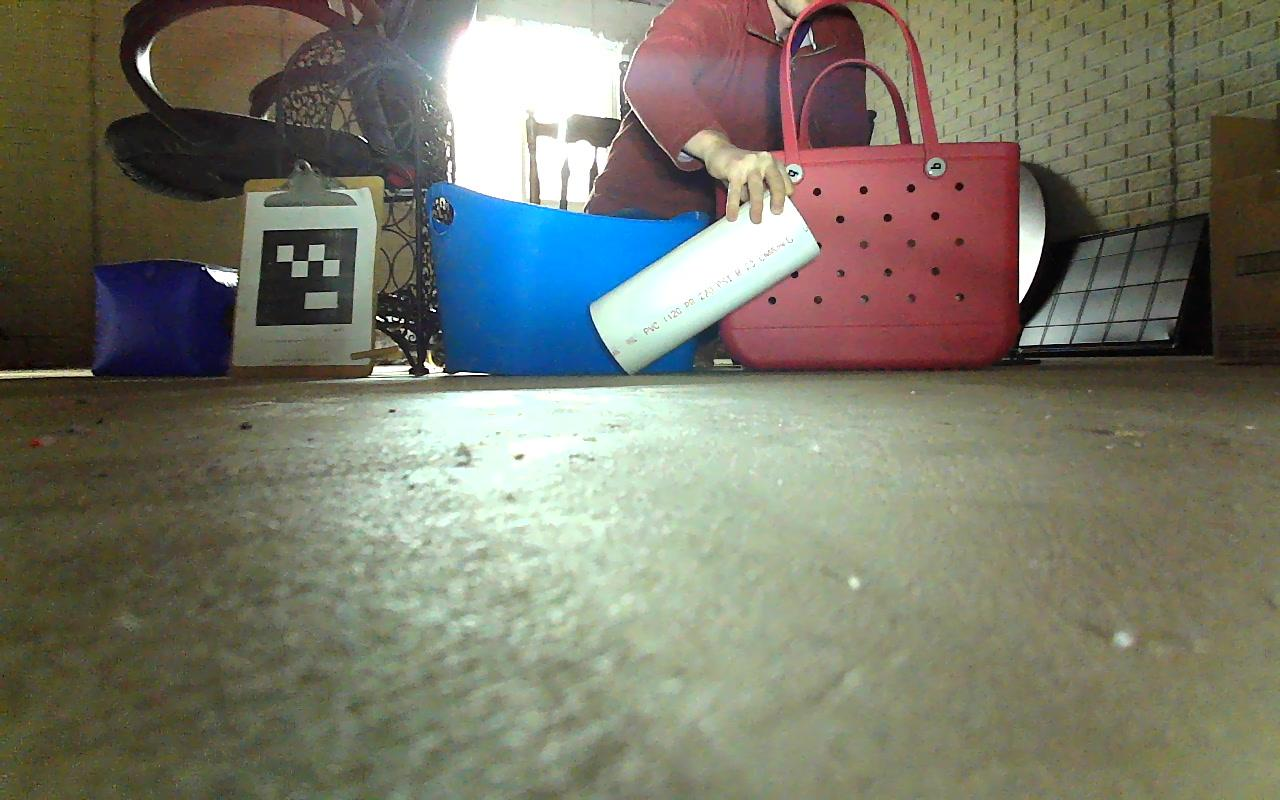coral: (587, 190, 821, 375)
